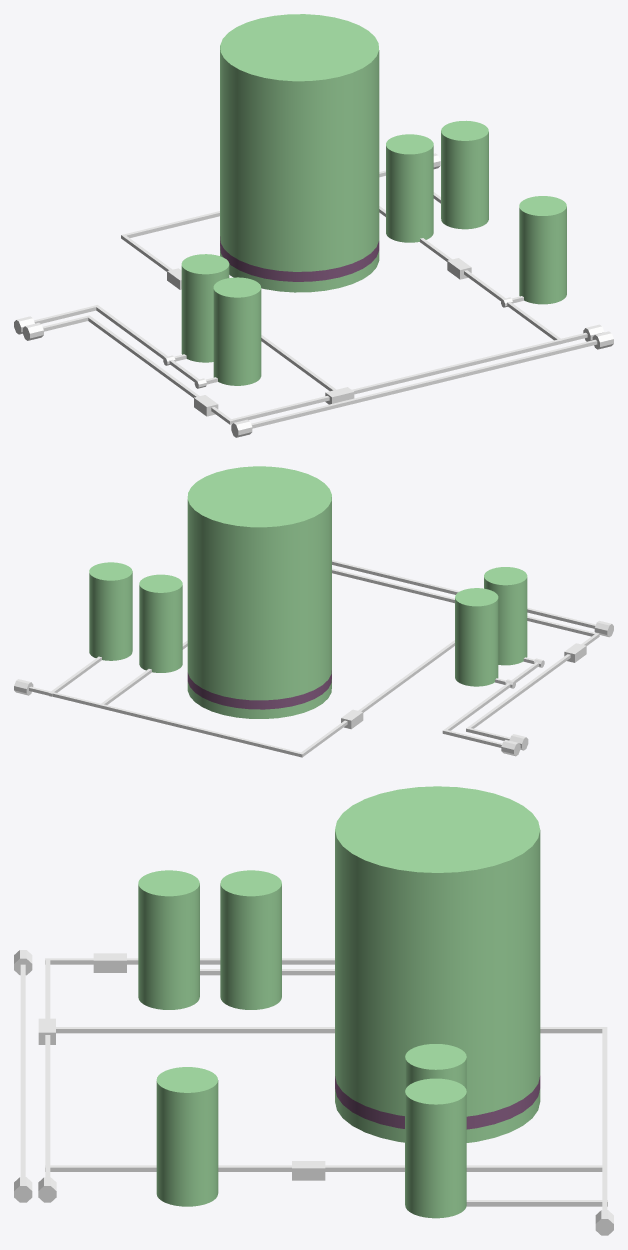
The model's file is tanks.glb.
The picture shows the model from 3 angles, top to bottom: view 1: azimuth 30°, elevation 25°; view 2: azimuth 150°, elevation 25°; view 3: azimuth 270°, elevation 25°; orthographic projection. The views are drawn at different scales.
Parts seen in each view (by area): view 1: tanks; view 2: tanks; view 3: tanks.
Part boxes in pixels (<box>): tanks: <box>14,14,613,437</box>; tanks: <box>14,466,613,757</box>; tanks: <box>14,786,613,1235</box>.
Bounding box in the file's own units: 41.42 × 17.66 × 34.45.
